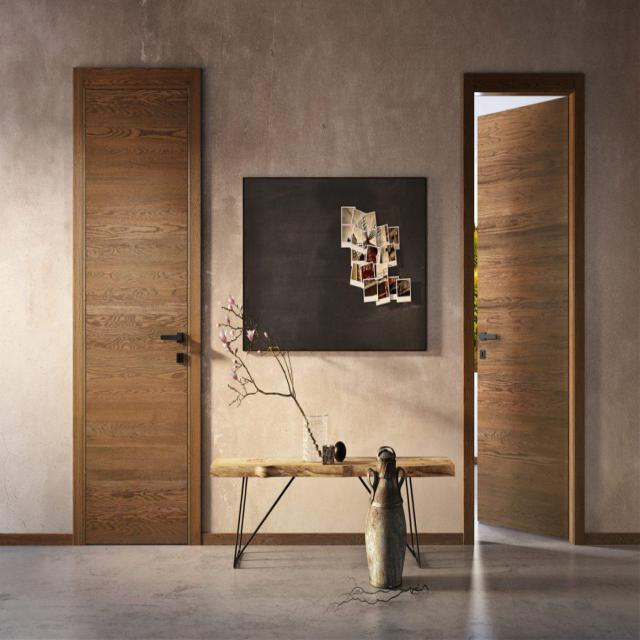close: (66, 57, 210, 560)
semi-open: (460, 62, 589, 564)
